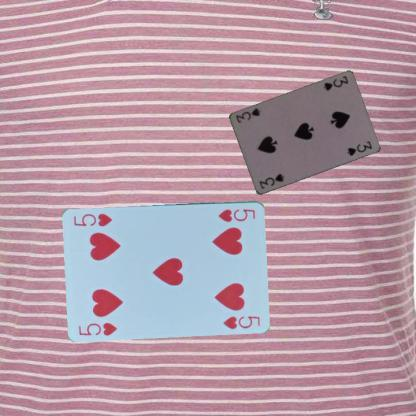3s: (256, 171, 285, 190), (321, 73, 350, 92)
5h: (76, 319, 118, 337), (216, 206, 257, 223)
